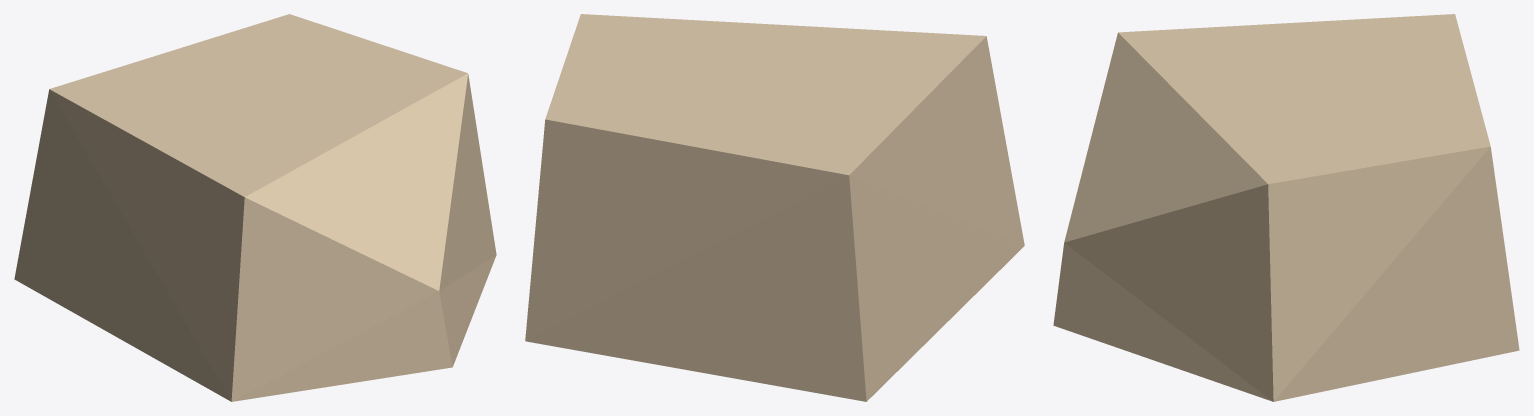
Rendered from SM_Env_Pebble_03.fbx.
The picture shows the model from 3 angles, left to right: view 1: azimuth 30°, elevation 25°; view 2: azimuth 150°, elevation 25°; view 3: azimuth 270°, elevation 25°; orthographic projection. The views are drawn at different scales.
Visible parts, largest first — view 1: SM_Env_Pebble_03; view 2: SM_Env_Pebble_03; view 3: SM_Env_Pebble_03.
Boxes of the visible parts, box(x1,y1,x2,y2) form: SM_Env_Pebble_03: box(14, 14, 496, 401); SM_Env_Pebble_03: box(525, 14, 1024, 401); SM_Env_Pebble_03: box(1053, 14, 1519, 401).
Size of the model in its own units: 0.000523 by 0.000247 by 0.000517.
Materials: 1 (1 with a texture image).
